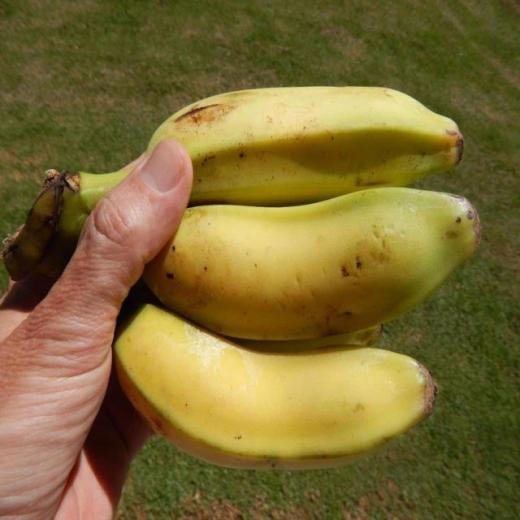Banana: (74, 184, 482, 342), (116, 300, 436, 474), (74, 86, 462, 214)
